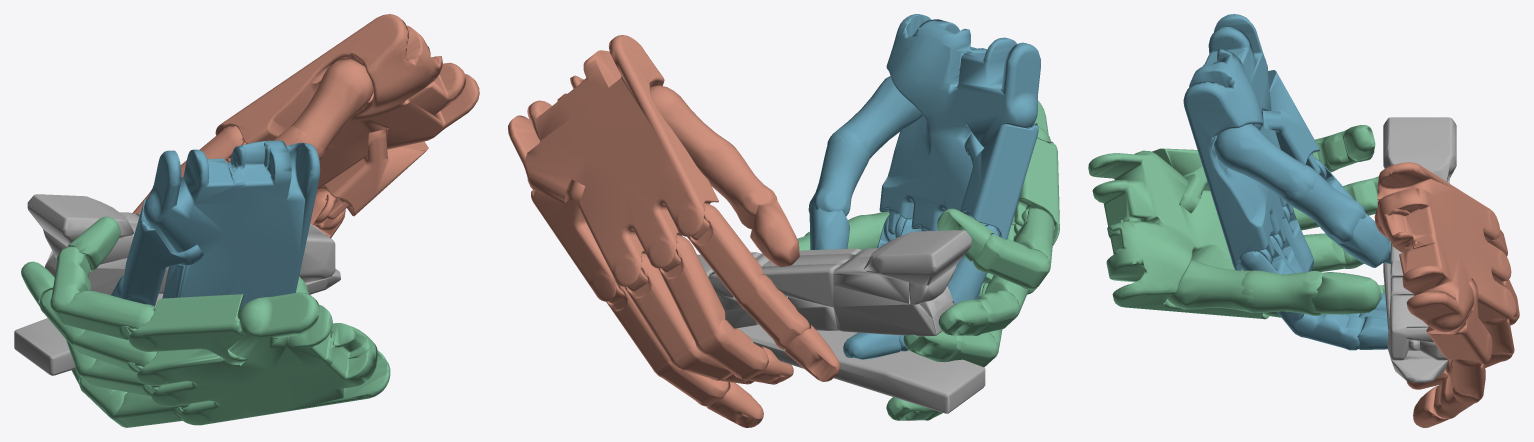
3 views of the same model, side by side, from view 1: azimuth 30°, elevation 25°; view 2: azimuth 150°, elevation 25°; view 3: azimuth 270°, elevation 25° (orthographic). The views are drawn at different scales.
Size of the model in its own units: 0.2717 by 0.189 by 0.2225.
